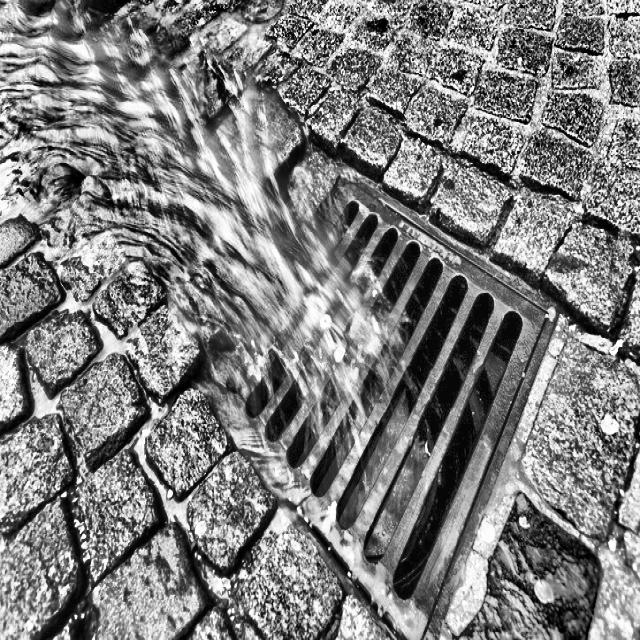drainage: (4, 1, 440, 550)
